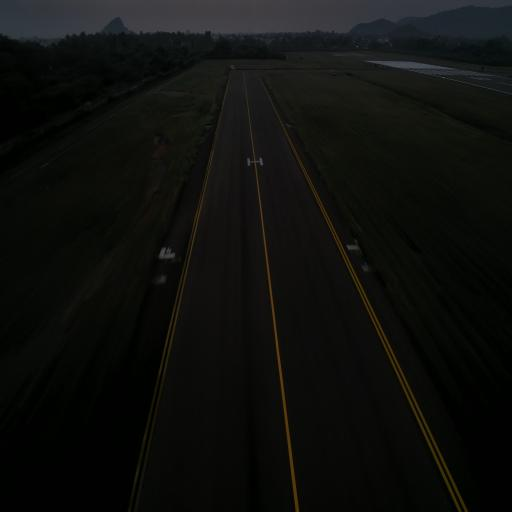on: (159, 268, 165, 280), (364, 259, 370, 271)
